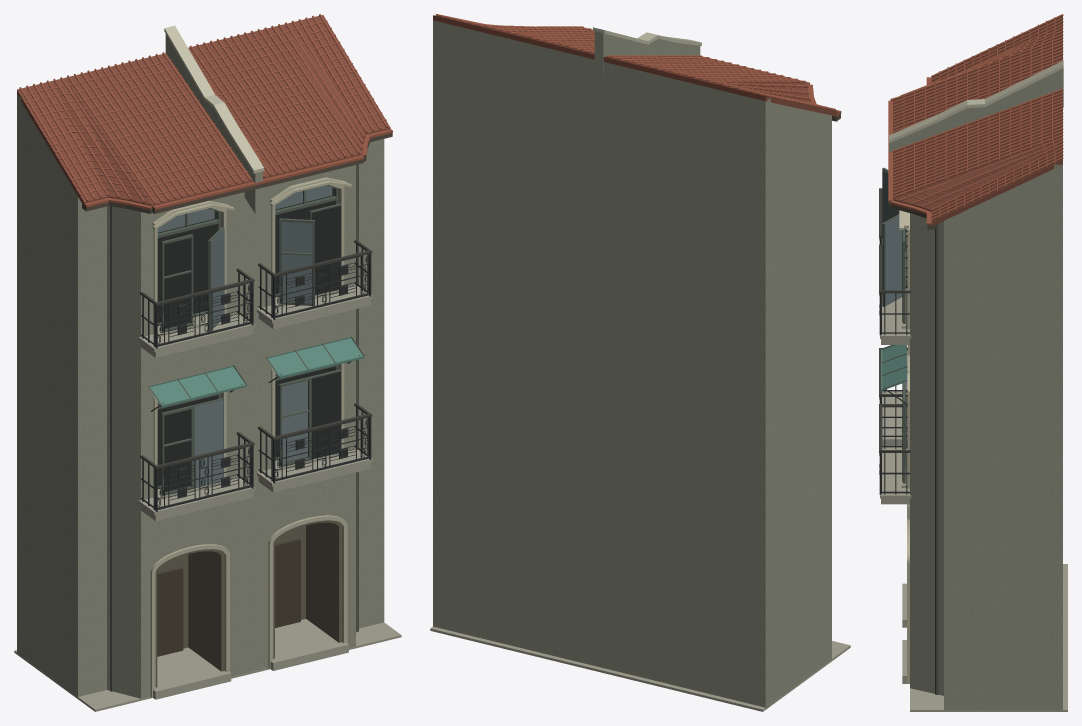
The model's file is xuhui-libo-terrace-one-two-balconies-web.glb.
The picture shows the model from 3 angles, left to right: view 1: azimuth 30°, elevation 25°; view 2: azimuth 150°, elevation 25°; view 3: azimuth 270°, elevation 25°; orthographic projection. The views are drawn at different scales.
Parts seen in each view (by area): view 1: 丽波花园南排一、二号分户双阳台; view 2: 丽波花园南排一、二号分户双阳台; view 3: 丽波花园南排一、二号分户双阳台.
Part boxes in pixels (left/top/right/bottom): 丽波花园南排一、二号分户双阳台: left=14, top=14, right=401, bottom=711; 丽波花园南排一、二号分户双阳台: left=430, top=14, right=850, bottom=711; 丽波花园南排一、二号分户双阳台: left=879, top=14, right=1067, bottom=711.
Bounding box in the file's own units: 6.38 × 11.74 × 3.49.
16 materials, 1 textured.
